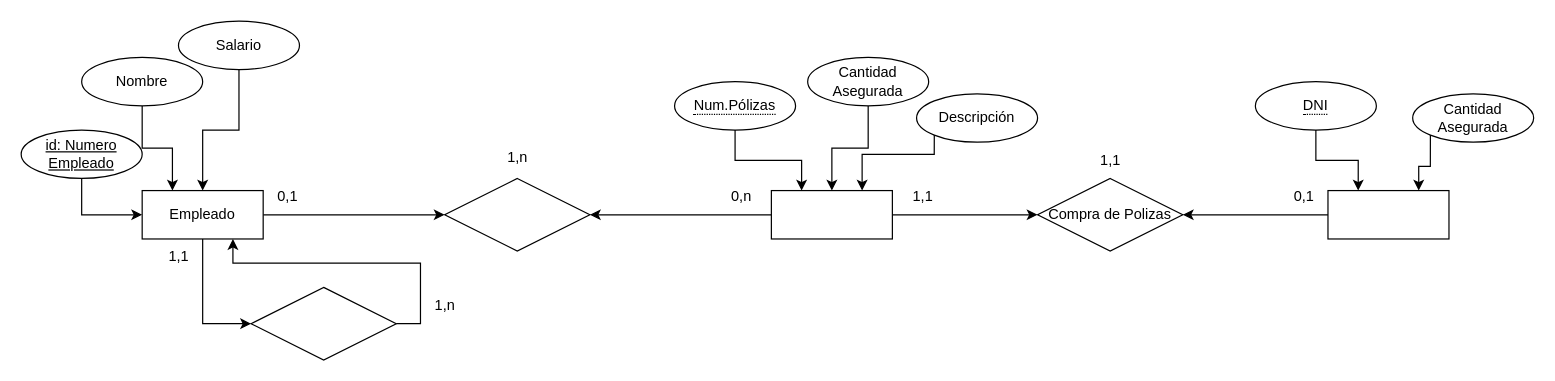
Some shapes in this 1555 by 381 pixel diagram are drawn without their labels. The shapes that lost their labels are listed below. From the top down, each one's centre as x and y in pixels, then its label:
At pixel 516 214: "Vende".
At pixel 831 214: "Póliza".
At pixel 1388 214: "Cliente".
At pixel 323 323: "Jefe empleados".
